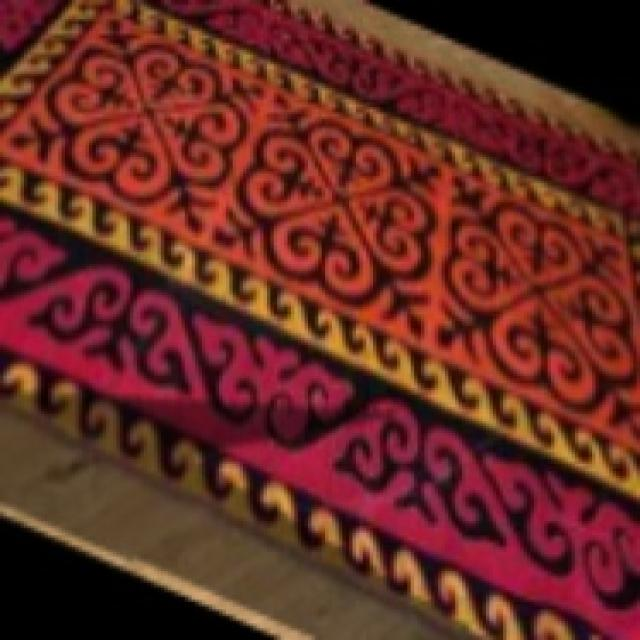Unity: (188, 99, 462, 343), (0, 17, 275, 242), (427, 184, 637, 440)
